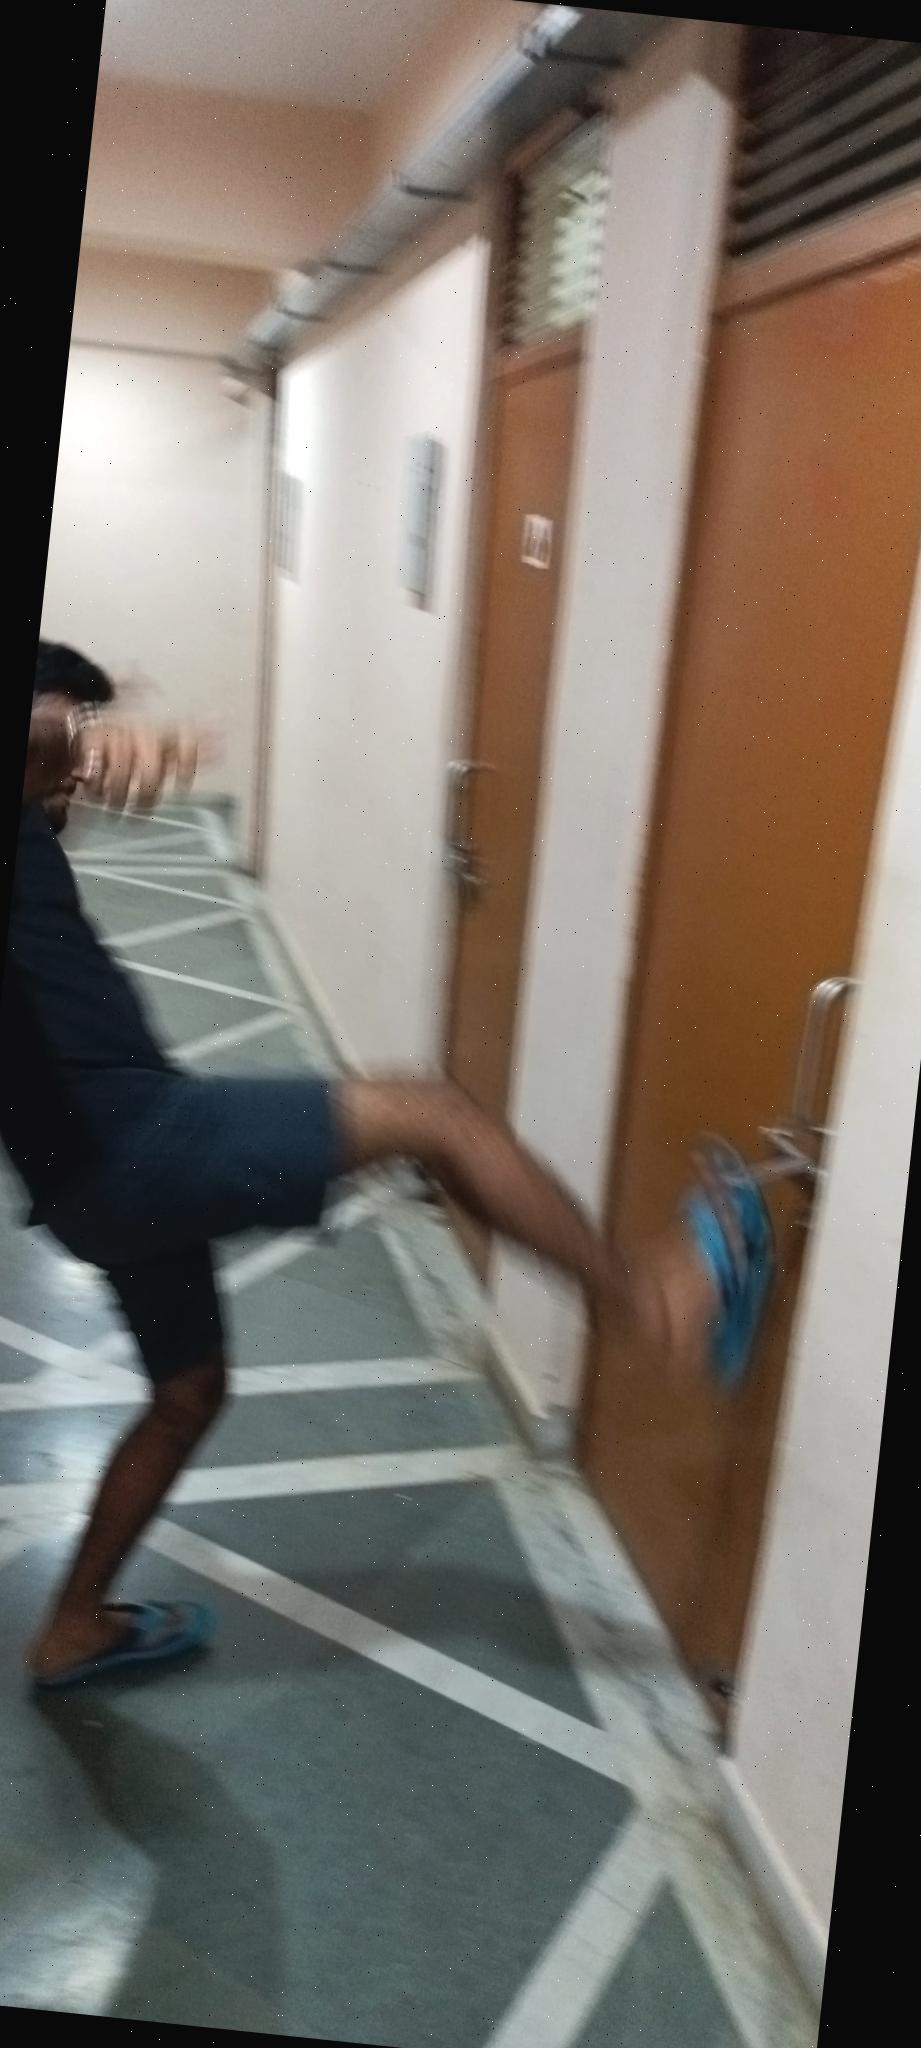suspicion: (0, 550, 908, 1883)
